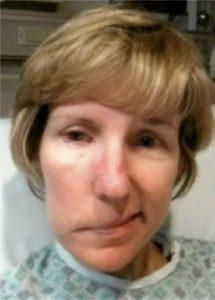strokeEyeMid: (49, 113, 176, 156)
strokeMouthSevere: (65, 203, 149, 242)
